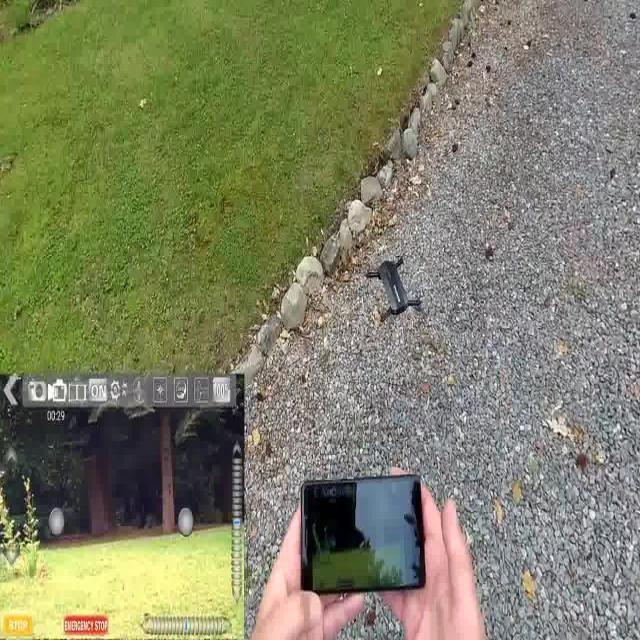drone: (362, 248, 424, 327)
